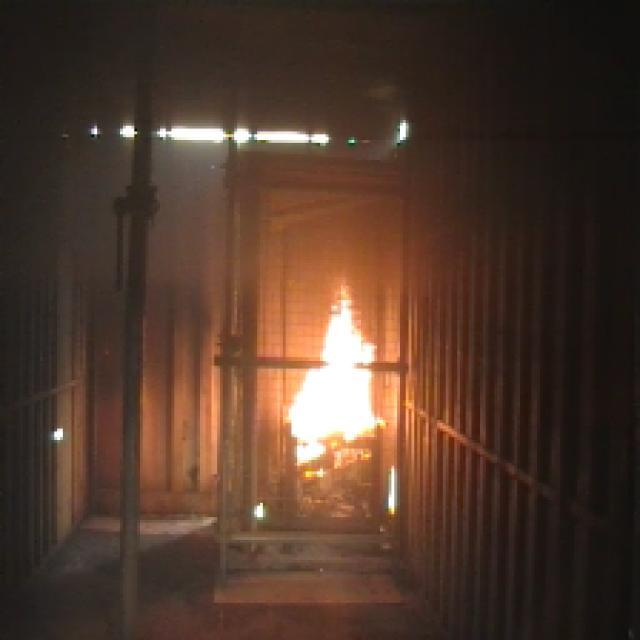Fire: (291, 290, 377, 448)
